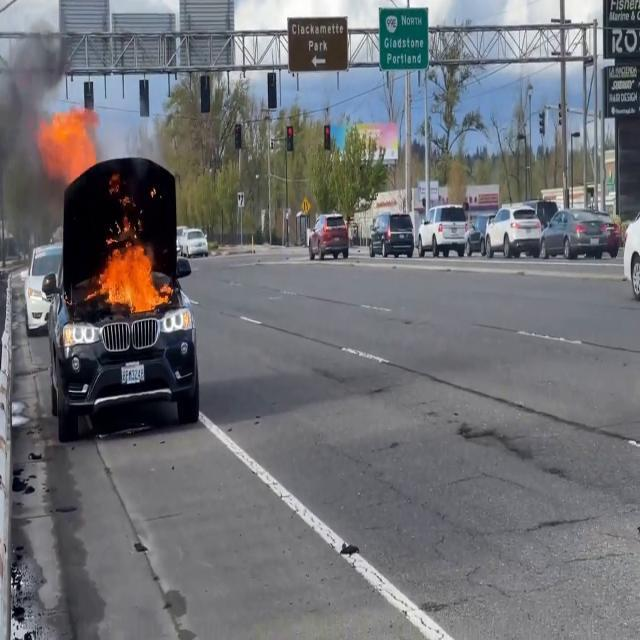Fire: (88, 226, 172, 314), (39, 105, 105, 183)
Smoke: (0, 0, 68, 226)
